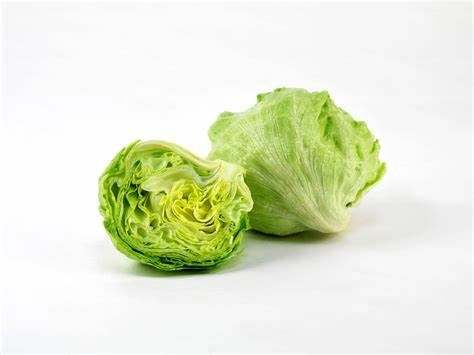Lettuce: (196, 81, 398, 255), (94, 131, 262, 284)
